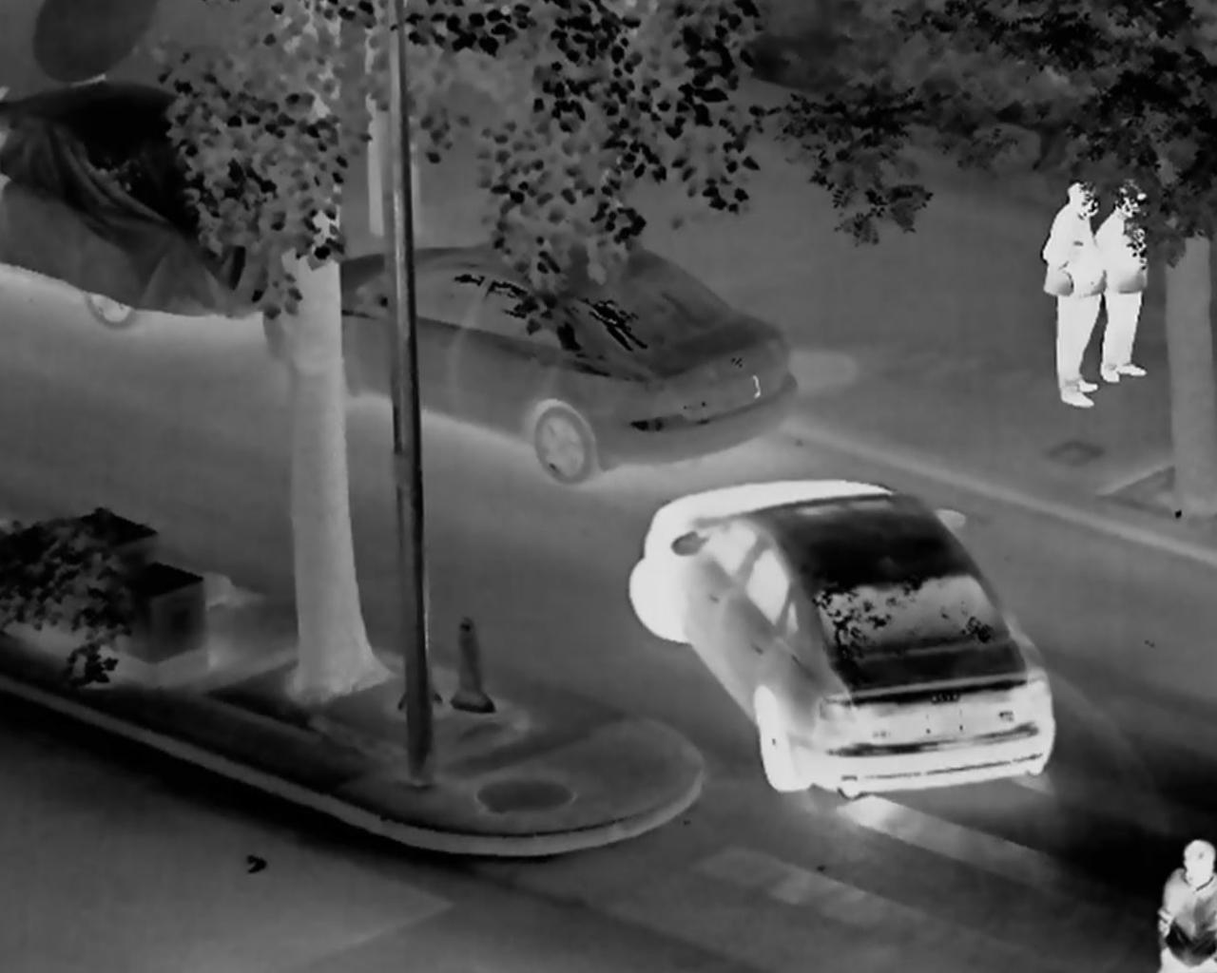person: (1032, 182, 1101, 408), (1091, 187, 1149, 386), (1152, 838, 1217, 973)
